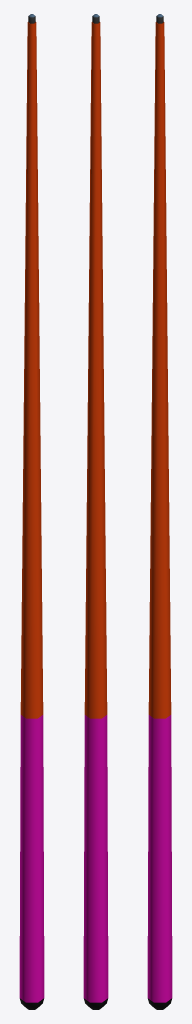
Rendered from Canne.fbx.
3 renders of one model, left to right at view 1: azimuth 30°, elevation 25°; view 2: azimuth 210°, elevation 25°; view 3: azimuth 330°, elevation 25°, orthographic.
Visible parts, largest first — view 1: Canne, Canne.002, Canne.003; view 2: Canne, Canne.002, Canne.003; view 3: Canne, Canne.002, Canne.003.
Boxes of the visible parts, bbox=[...] form: Canne: bbox=[20, 22, 43, 718]; Canne.002: bbox=[19, 715, 44, 1002]; Canne.003: bbox=[19, 998, 44, 1009]; Canne: bbox=[84, 22, 107, 718]; Canne.002: bbox=[83, 715, 108, 1002]; Canne.003: bbox=[83, 998, 108, 1009]; Canne: bbox=[148, 22, 171, 718]; Canne.002: bbox=[147, 715, 172, 1002]; Canne.003: bbox=[147, 998, 172, 1009].
Bounding box in the file's own units: 167 × 8502 × 192.
